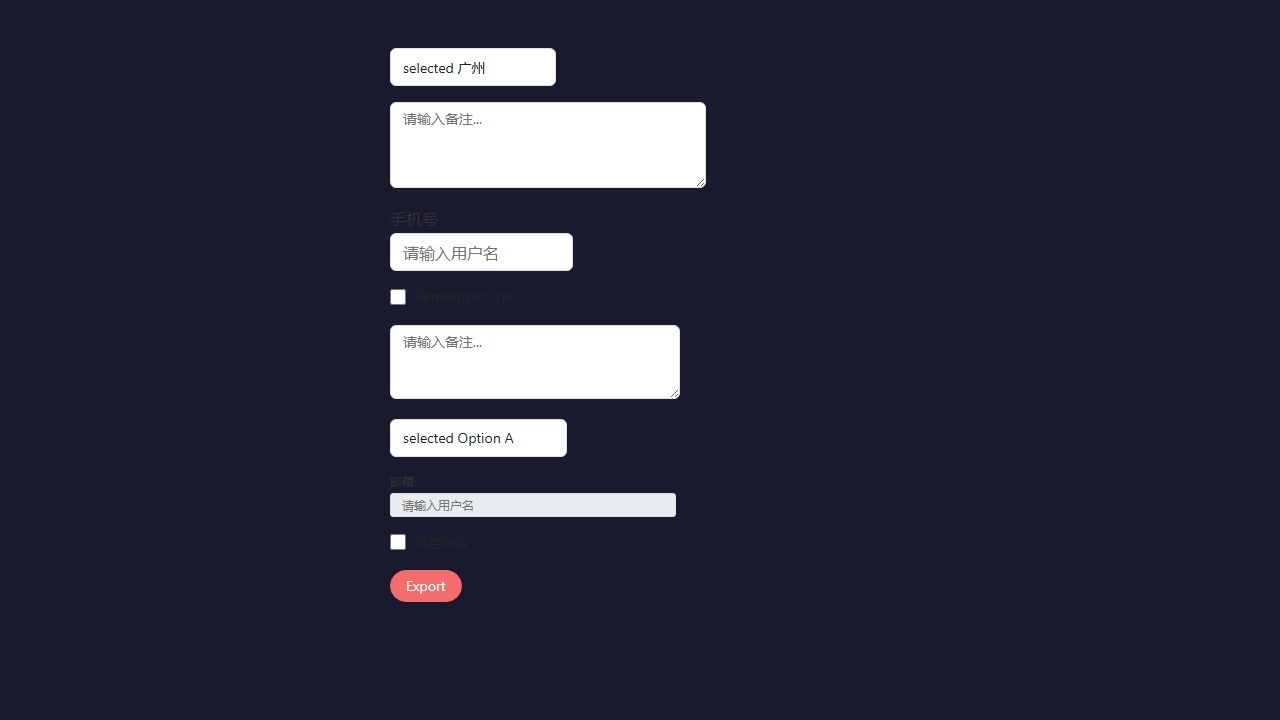button: (390, 570, 462, 602)
checkbox: (390, 289, 406, 305), (390, 534, 406, 550)
icon: (414, 287, 512, 306), (414, 533, 470, 552)
input: (390, 233, 573, 271), (390, 492, 676, 516)
radio: (390, 287, 512, 306), (390, 533, 470, 552)
select: (390, 419, 567, 457), (390, 48, 556, 86)
textarea: (390, 102, 706, 188), (390, 324, 680, 398)
